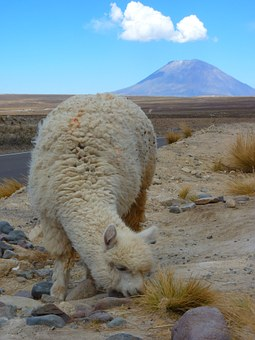alpaca: (29, 92, 158, 301)
